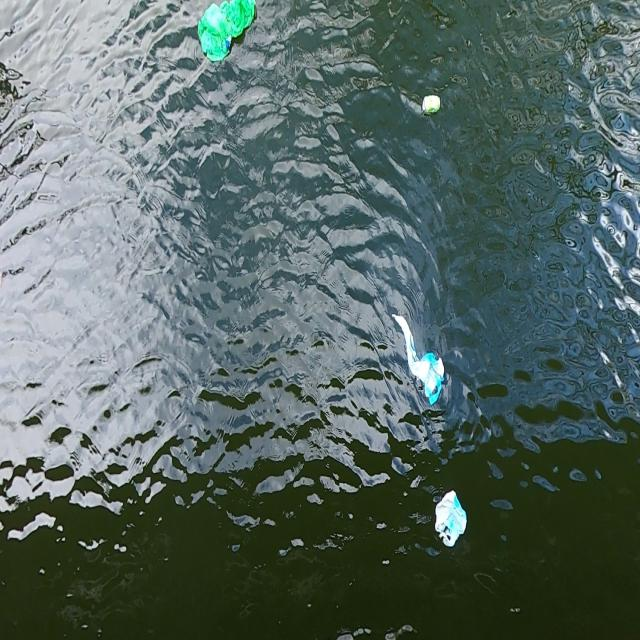Non plastique: (419, 94, 447, 119)
Sac plastique: (390, 306, 450, 407), (194, 0, 260, 70), (431, 485, 471, 555)
